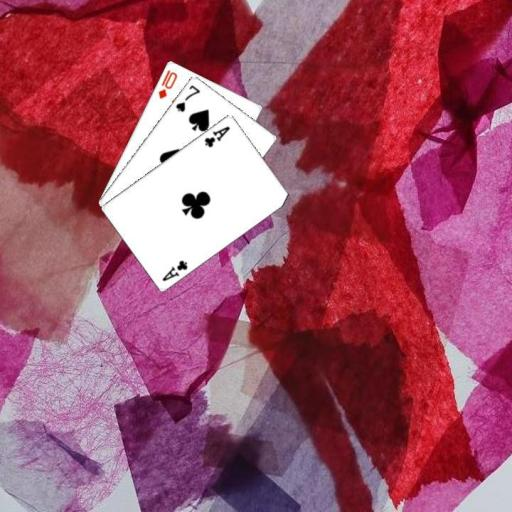10D: (155, 66, 179, 100)
7S: (172, 81, 201, 113)
AC: (201, 122, 232, 149), (159, 257, 189, 282)
